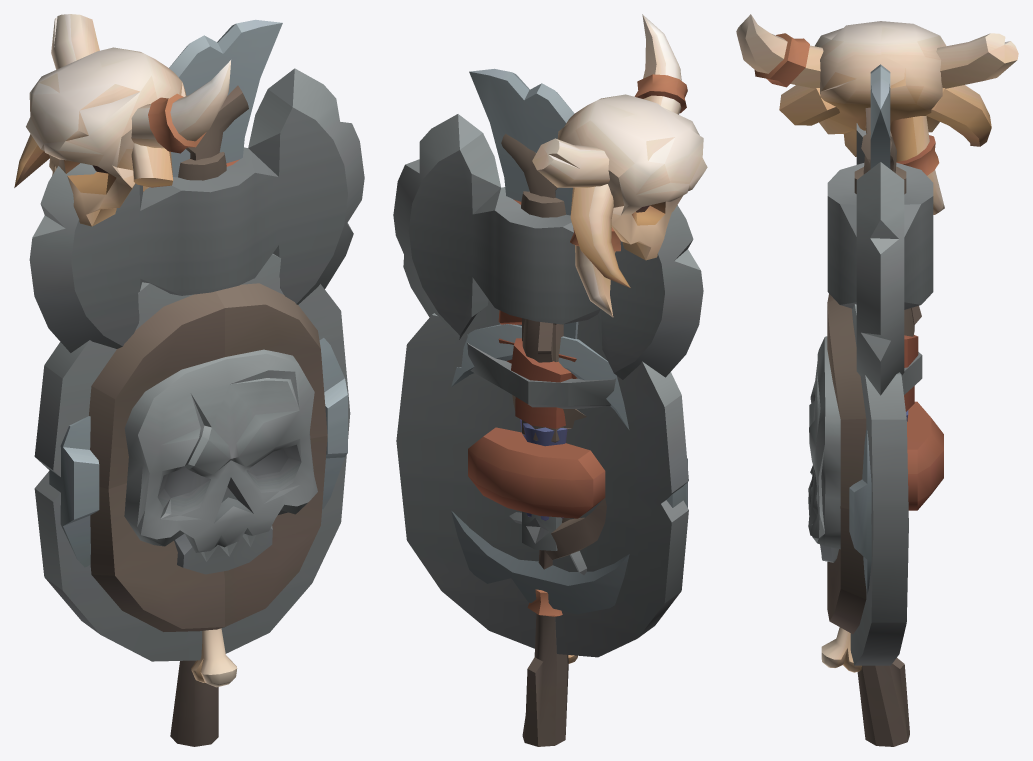
File: skel_weapons.glb
The picture shows the model from 3 angles, left to right: view 1: azimuth 30°, elevation 25°; view 2: azimuth 150°, elevation 25°; view 3: azimuth 270°, elevation 25°; orthographic projection. The views are drawn at different scales.
Parts seen in each view (by area): view 1: skel_shield_large, skel_axe, skel_staff, skel_shield, skel_blade; view 2: skel_shield_large, skel_axe, skel_staff, skel_blade, skel_shield; view 3: skel_staff, skel_shield_large, skel_axe, skel_blade, skel_shield.
Boxes of the visible parts, x1,y1,x2,y2 form: skel_shield_large: (34,254,350,661); skel_axe: (29,68,364,352); skel_staff: (14,14,248,746); skel_shield: (49,338,347,567); skel_blade: (169,19,282,177); skel_shield_large: (396,299,688,657); skel_axe: (393,114,703,550); skel_staff: (501,14,707,746); skel_blade: (467,68,615,574); skel_shield: (451,324,687,614); skel_staff: (736,14,1018,746); skel_shield_large: (808,294,943,665); skel_axe: (827,123,933,420); skel_blade: (870,64,922,395); skel_shield: (849,429,871,593).
Bounding box in the file's own units: 0.9885 × 2.1 × 0.7534.
1 material, 1 textured.
